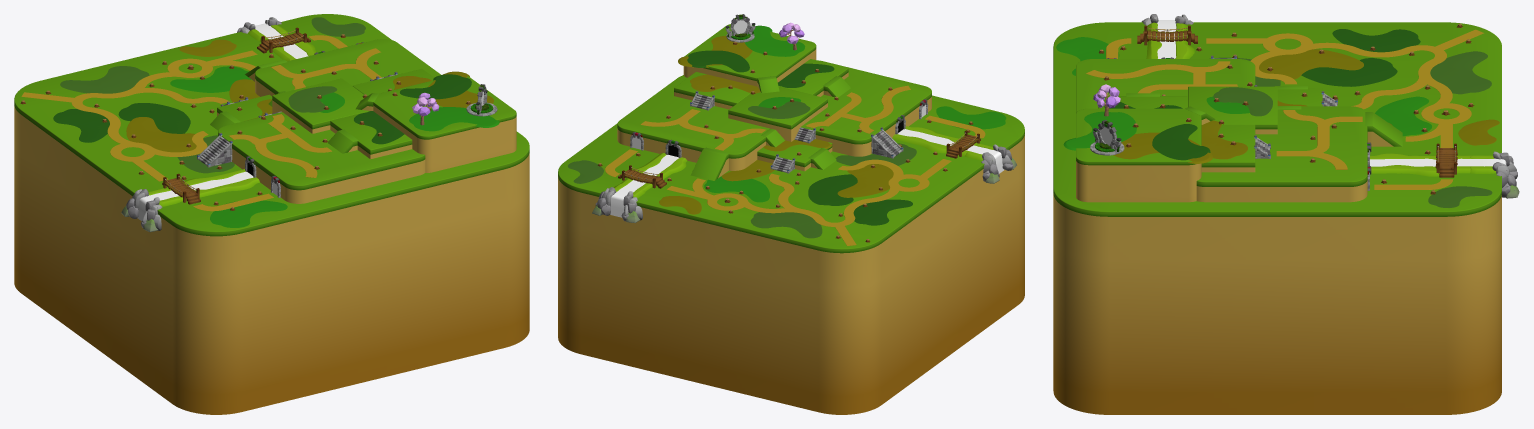
Rendered from LandMass.glb.
The picture shows the model from 3 angles, left to right: view 1: azimuth 30°, elevation 25°; view 2: azimuth 150°, elevation 25°; view 3: azimuth 270°, elevation 25°; orthographic projection. The views are drawn at different scales.
Parts seen in each view (by area): view 1: LOD0 (×32); view 2: LOD0 (×33); view 3: LOD0 (×30), sakura tree.
Boxes of the visible parts, x1=… form: LOD0 (×32): x1=14, y1=14, x2=529, y2=414; LOD0 (×33): x1=558, y1=14, x2=1024, y2=414; LOD0 (×30): x1=1053, y1=14, x2=1519, y2=414; sakura tree: x1=1093, y1=84, x2=1120, y2=116.
Size of what is drawn, in the model's own units: 104 by 67.67 by 104.
6 materials, 2 textured.
